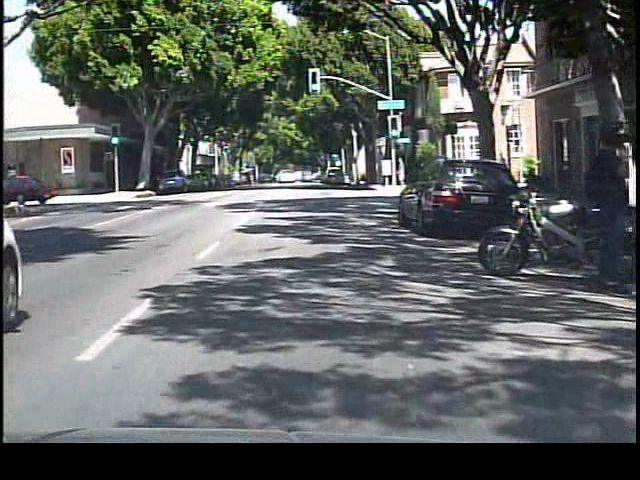person: (574, 134, 627, 293), (392, 156, 409, 191)
